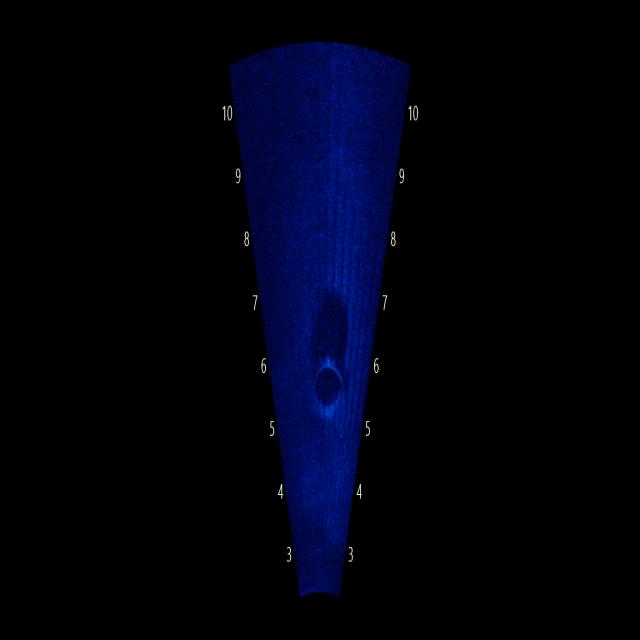circle: (305, 336, 353, 426)
